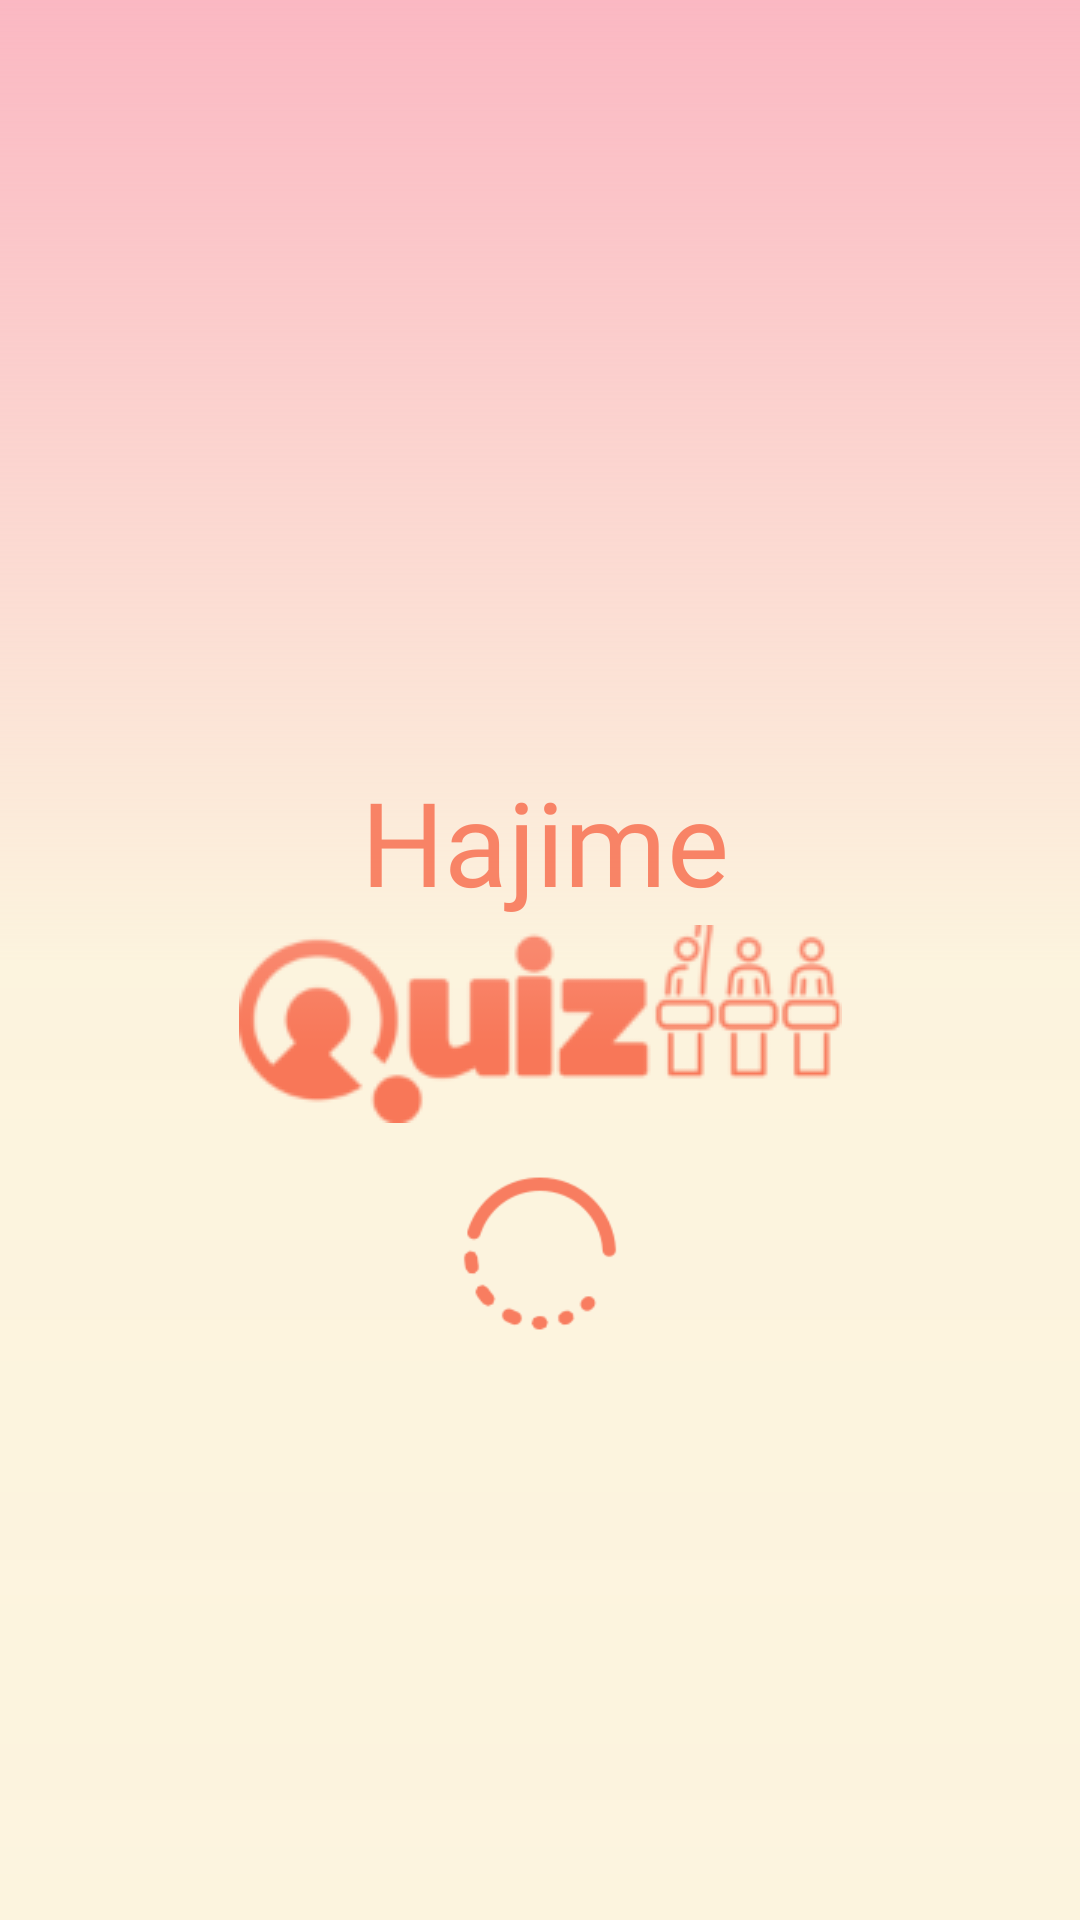

Named icons in this screenshot (1080 x 1920) and their bounding boxes, (x1, y1, x2, y2):
loading: (464, 1177, 616, 1330)
